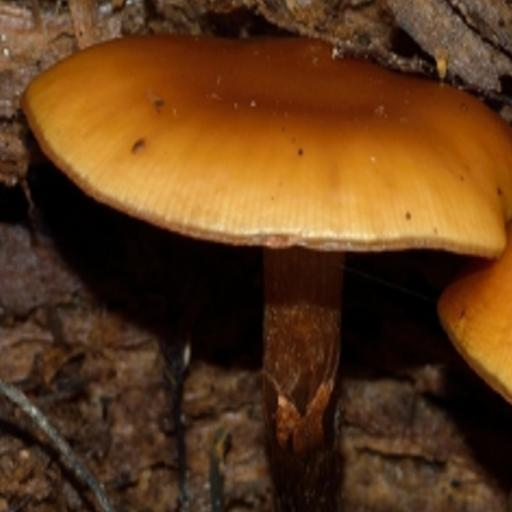mushroom: (21, 25, 512, 339)
